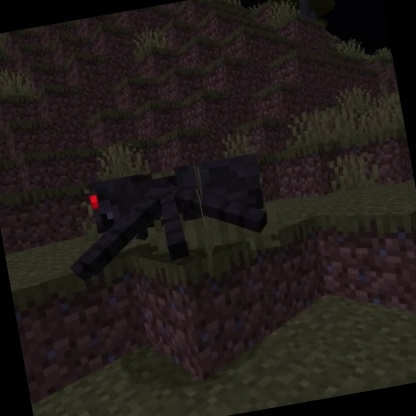spider: (53, 148, 278, 287)
